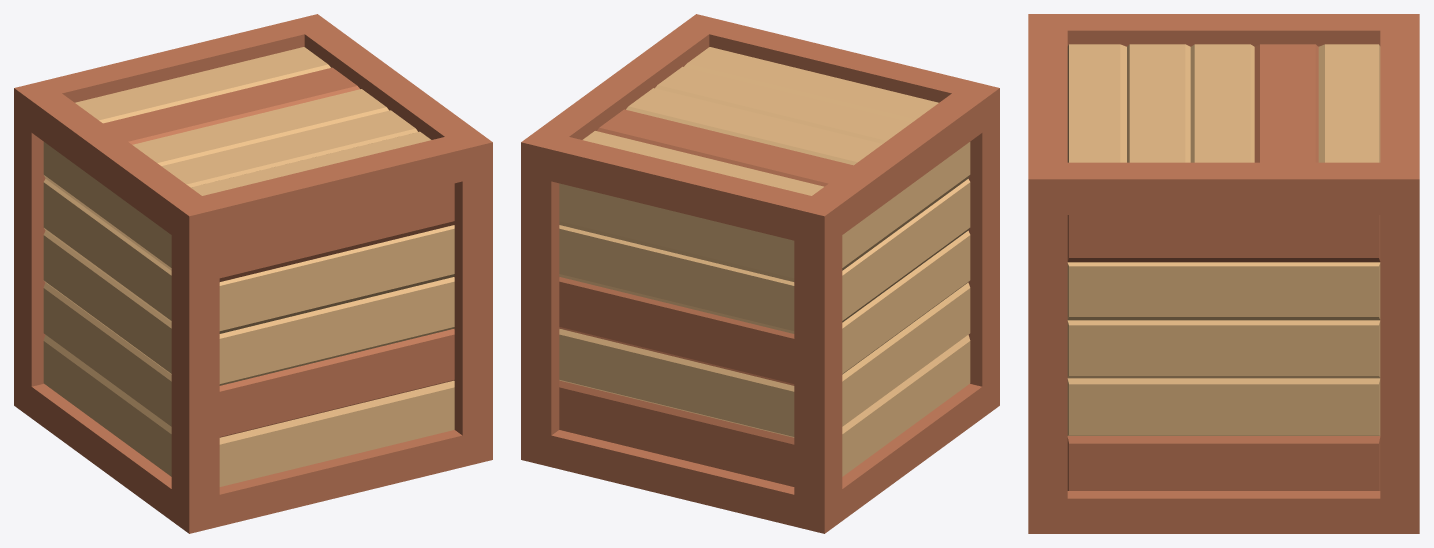
3 renders of one model, left to right at view 1: azimuth 30°, elevation 25°; view 2: azimuth 150°, elevation 25°; view 3: azimuth 270°, elevation 25°, orthographic. The views are drawn at different scales.
Parts seen in each view (by area): view 1: Cube.008; view 2: Cube.008; view 3: Cube.008.
Part boxes in pixels (x1=…): Cube.008: x1=14, y1=14, x2=492, y2=533; Cube.008: x1=521, y1=14, x2=999, y2=533; Cube.008: x1=1028, y1=14, x2=1419, y2=533.
Size of the model in its own units: 40.55 by 40.55 by 40.55.
1 material, 1 textured.
